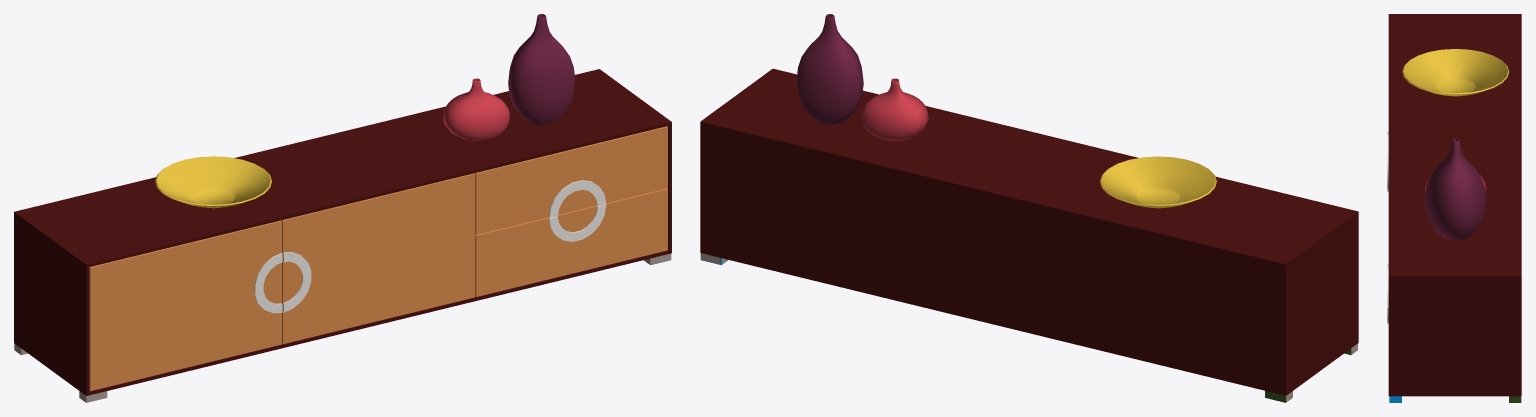
Rendered from Long Table 1.fbx.
3 renders of one model, left to right at view 1: azimuth 30°, elevation 25°; view 2: azimuth 150°, elevation 25°; view 3: azimuth 270°, elevation 25°, orthographic. The views are drawn at different scales.
Visible parts, largest first — view 1: Long Table; view 2: Long Table; view 3: Long Table.
Part boxes in pixels (<box>): Long Table: <box>14,14,671,402</box>; Long Table: <box>700,14,1358,402</box>; Long Table: <box>1387,14,1521,402</box>.
Size of the model in its own units: 290 by 62.78 by 114.
